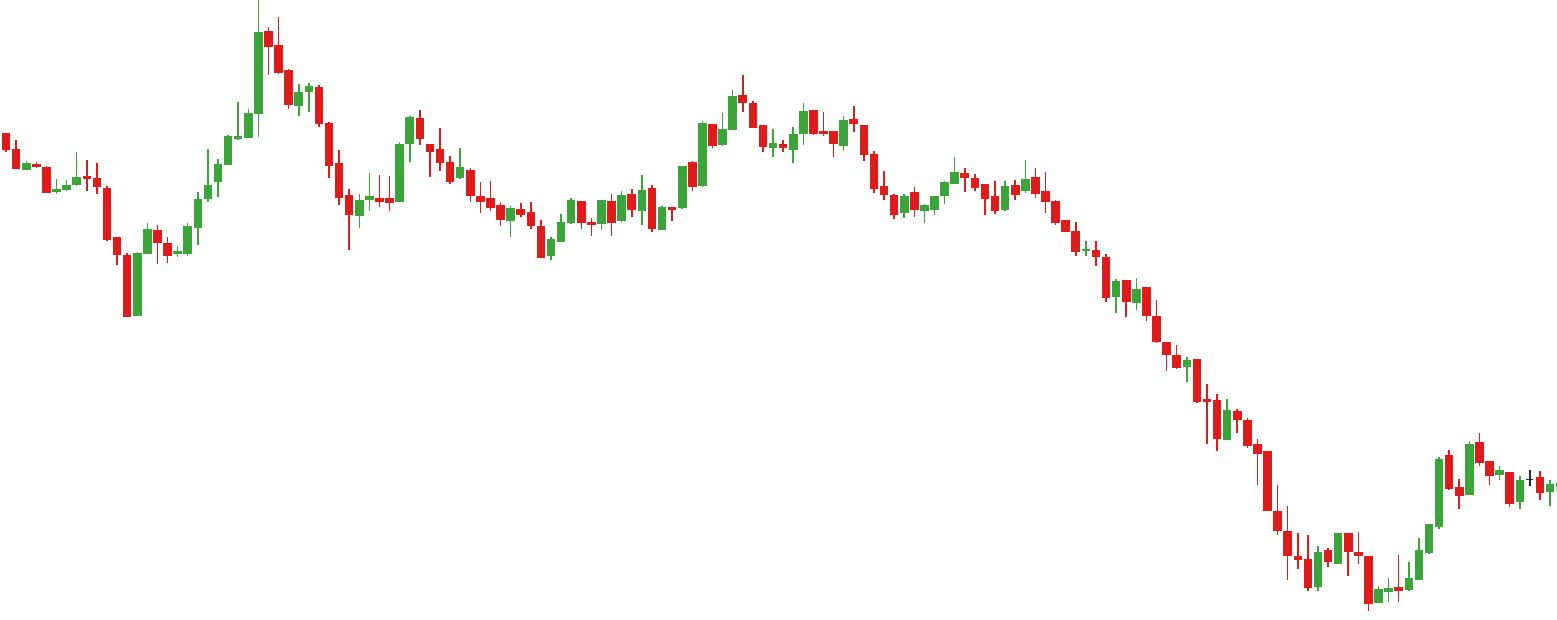buy: (1303, 543, 1395, 617)
